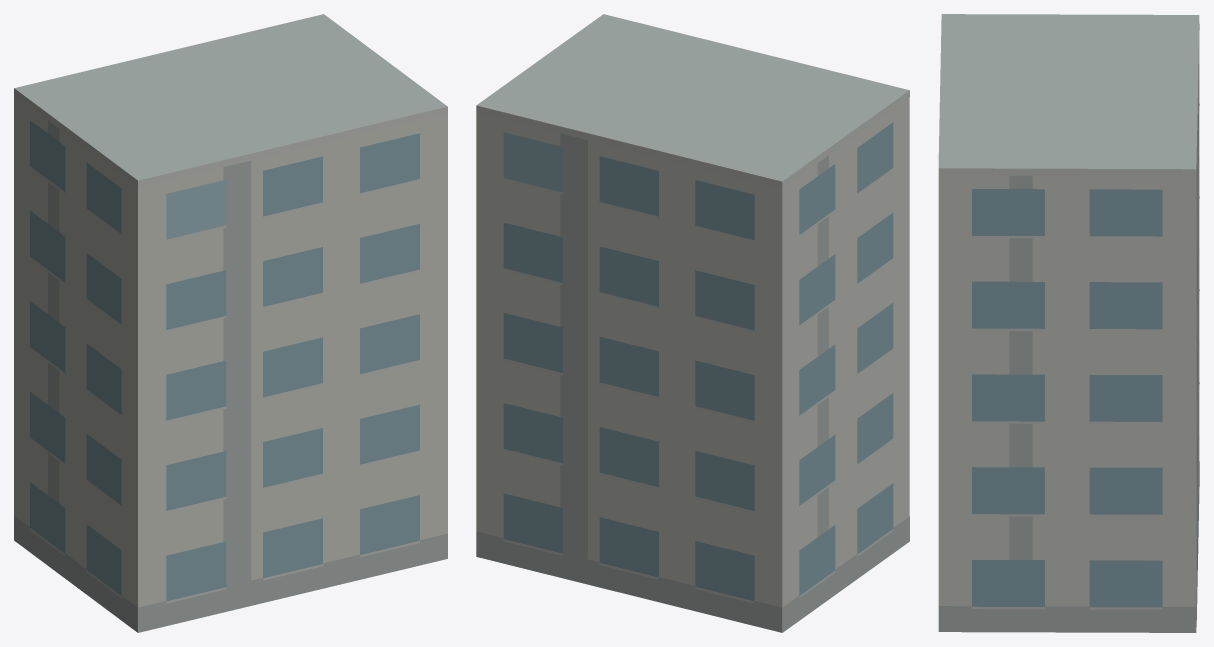
The model's file is survey-upis-32631818.glb.
3 renders of one model, left to right at view 1: azimuth 30°, elevation 25°; view 2: azimuth 150°, elevation 25°; view 3: azimuth 270°, elevation 25°, orthographic. The views are drawn at different scales.
Visible parts, largest first — view 1: survey-upis-32631818.tmp; view 2: survey-upis-32631818.tmp; view 3: survey-upis-32631818.tmp.
Boxes of the visible parts, x1,y1,x2,y2 form: survey-upis-32631818.tmp: [14, 14, 447, 632]; survey-upis-32631818.tmp: [476, 14, 909, 632]; survey-upis-32631818.tmp: [938, 14, 1199, 632].
Size of the model in its own units: 11.42 by 15.9 by 8.12.
